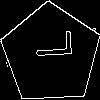L: (26, 29, 72, 60)
